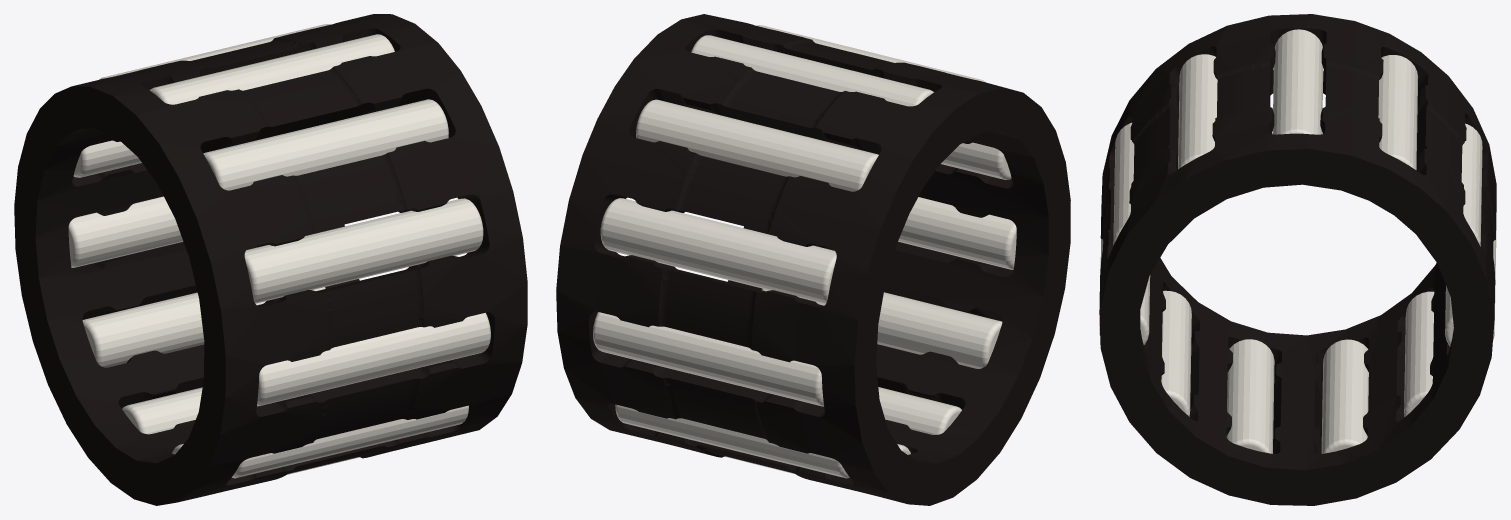
The model's file is Pistonpin KBK.glb.
The picture shows the model from 3 angles, left to right: view 1: azimuth 30°, elevation 25°; view 2: azimuth 150°, elevation 25°; view 3: azimuth 270°, elevation 25°; orthographic projection. The views are drawn at different scales.
Visible parts, largest first — view 1: mat_1, mat_2; view 2: mat_1, mat_2; view 3: mat_1, mat_2.
Part boxes in pixels (x1=…): mat_1: x1=14, y1=14, x2=527, y2=505; mat_2: x1=68, y1=24, x2=490, y2=478; mat_1: x1=556, y1=14, x2=1070, y2=505; mat_2: x1=593, y1=25, x2=1016, y2=478; mat_1: x1=1099, y1=14, x2=1496, y2=505; mat_2: x1=1099, y1=29, x2=1496, y2=453.
Bounding box in the file's own units: 0.1663 × 0.2049 × 0.2049.
2 materials, 1 textured.
